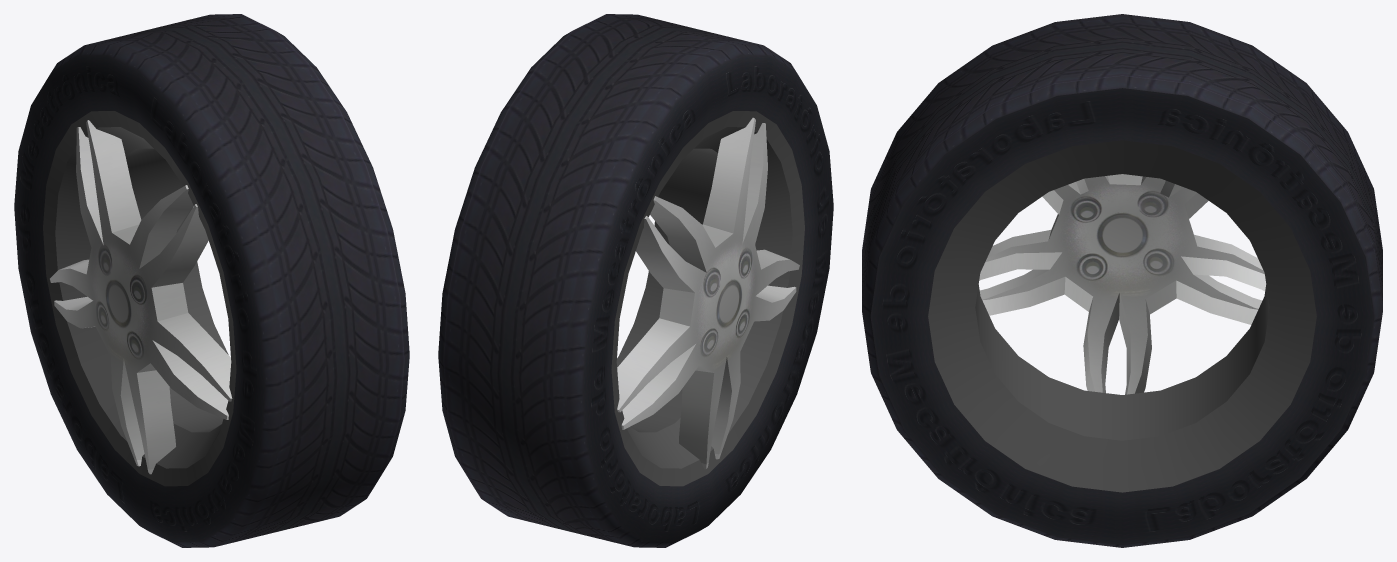
Rendered from PneuFiatStiloD.FBX.
3 renders of one model, left to right at view 1: azimuth 30°, elevation 25°; view 2: azimuth 150°, elevation 25°; view 3: azimuth 270°, elevation 25°, orthographic.
Visible parts, largest first — view 1: RodaD; view 2: RodaD; view 3: RodaD.
Part boxes in pixels (x1,y1,x2,y2): RodaD: (14, 14, 409, 547); RodaD: (438, 14, 833, 547); RodaD: (862, 14, 1382, 547).
Size of the model in its own units: 0.2822 by 0.7649 by 0.7649.
